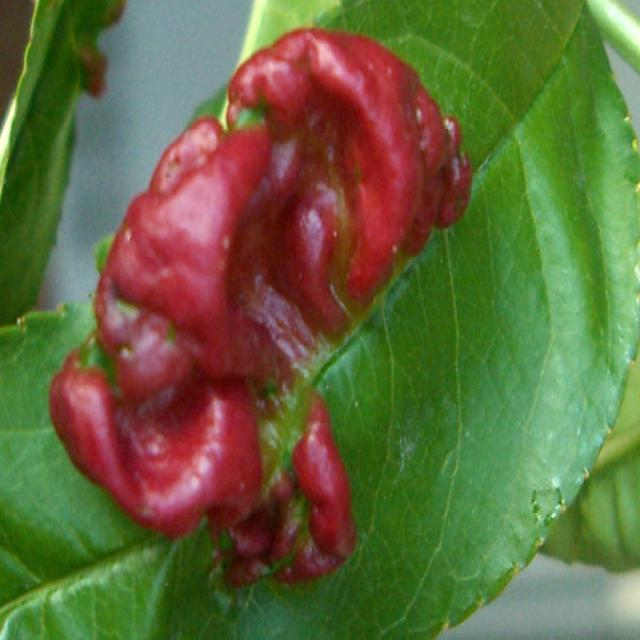peach_leaf_curl: (47, 22, 474, 590)
